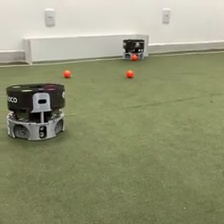ball: (125, 68, 135, 78), (62, 68, 72, 78), (130, 52, 138, 61)
goal: (23, 30, 151, 66)
robot: (4, 81, 68, 143), (121, 37, 147, 63)
